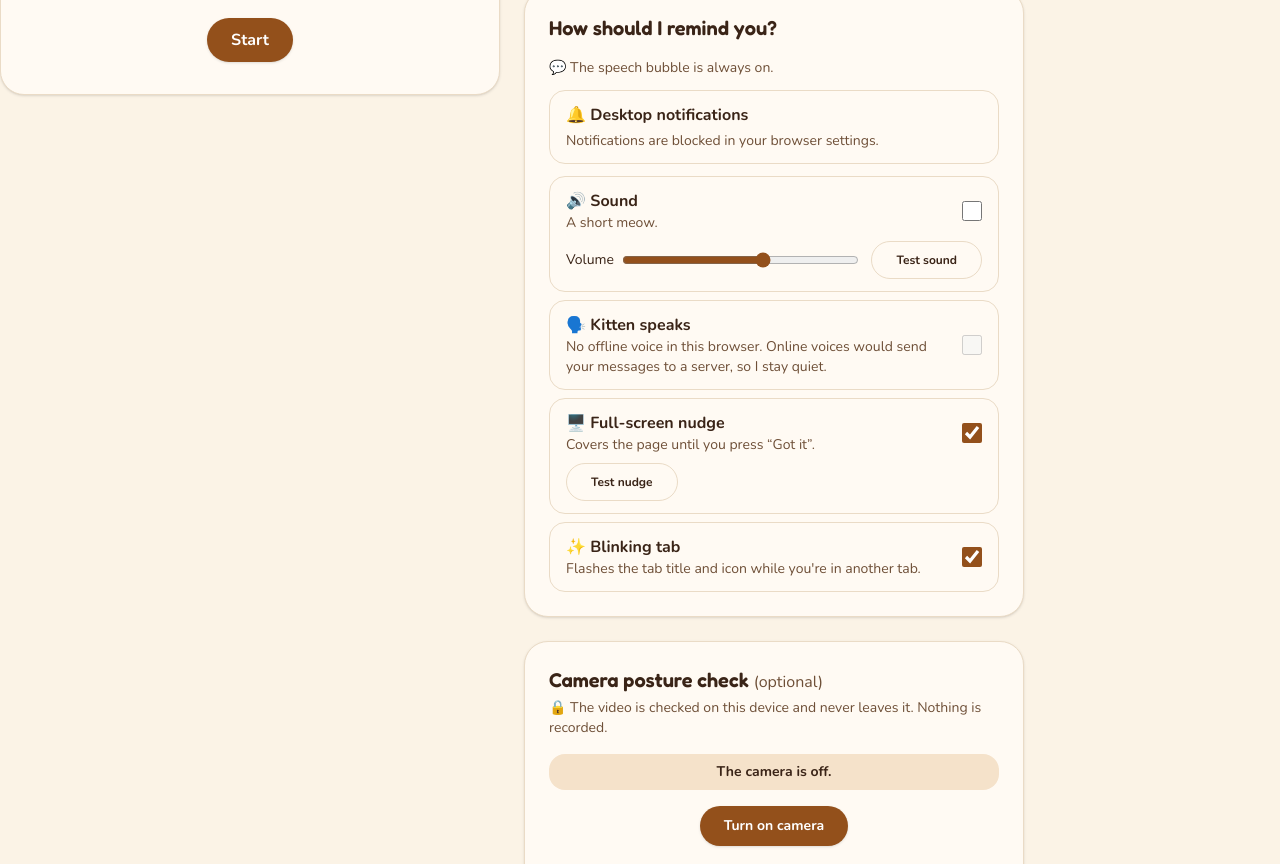
Test: full-screen nudge › opens with the reminder, and closes with Got it or Escape
This screenshot has width=1280, height=864.
Earlier steps of the test are not shown.
Later steps or results of the test are not shown.
(page scrolled)
Click the button "Start".
click(250, 40)  # box [207,18,293,62]
Wait 30000 ms
(page scrolled)
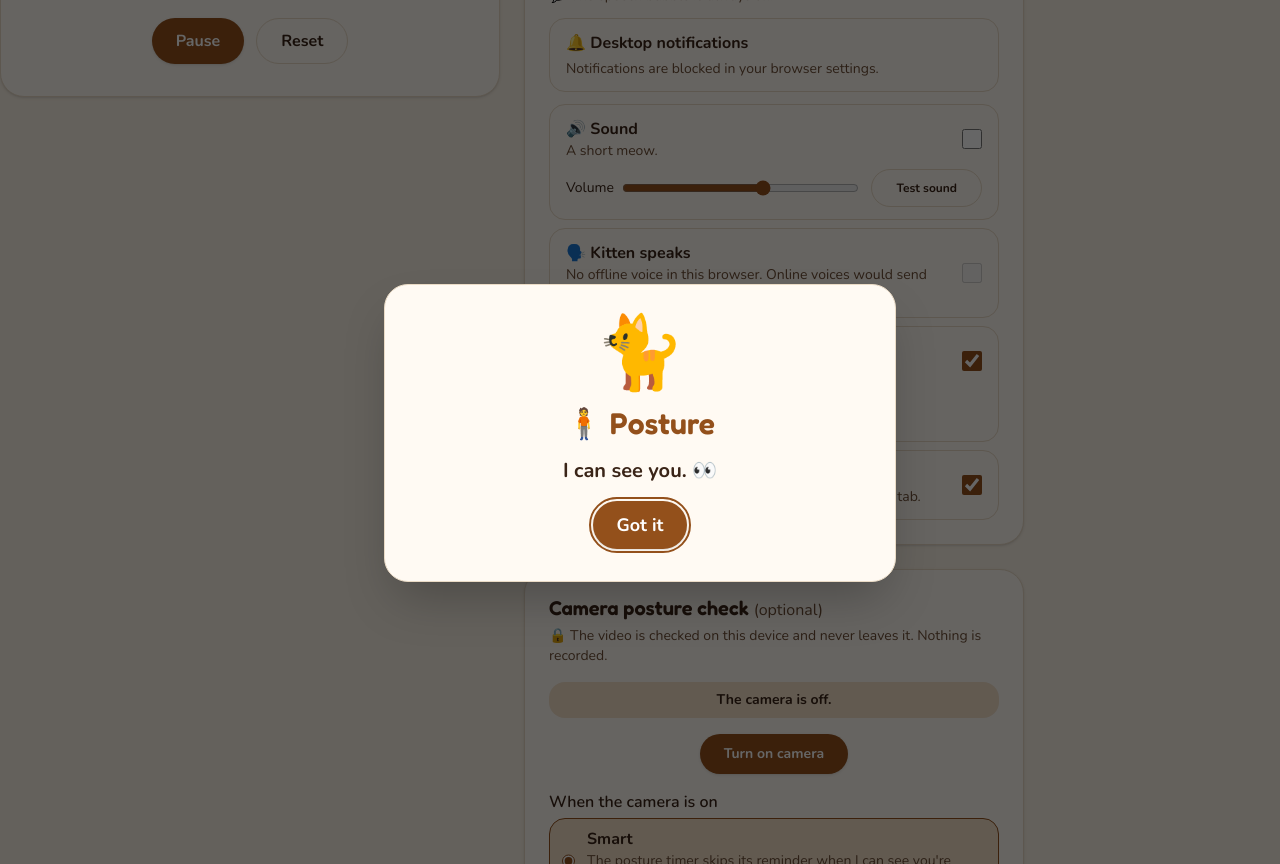
Now the text "I can see you. 👀" is shown, box [563,457,717,485]
Click the button "Got it".
click(640, 525)  # box [593,501,687,549]
(page scrolled)
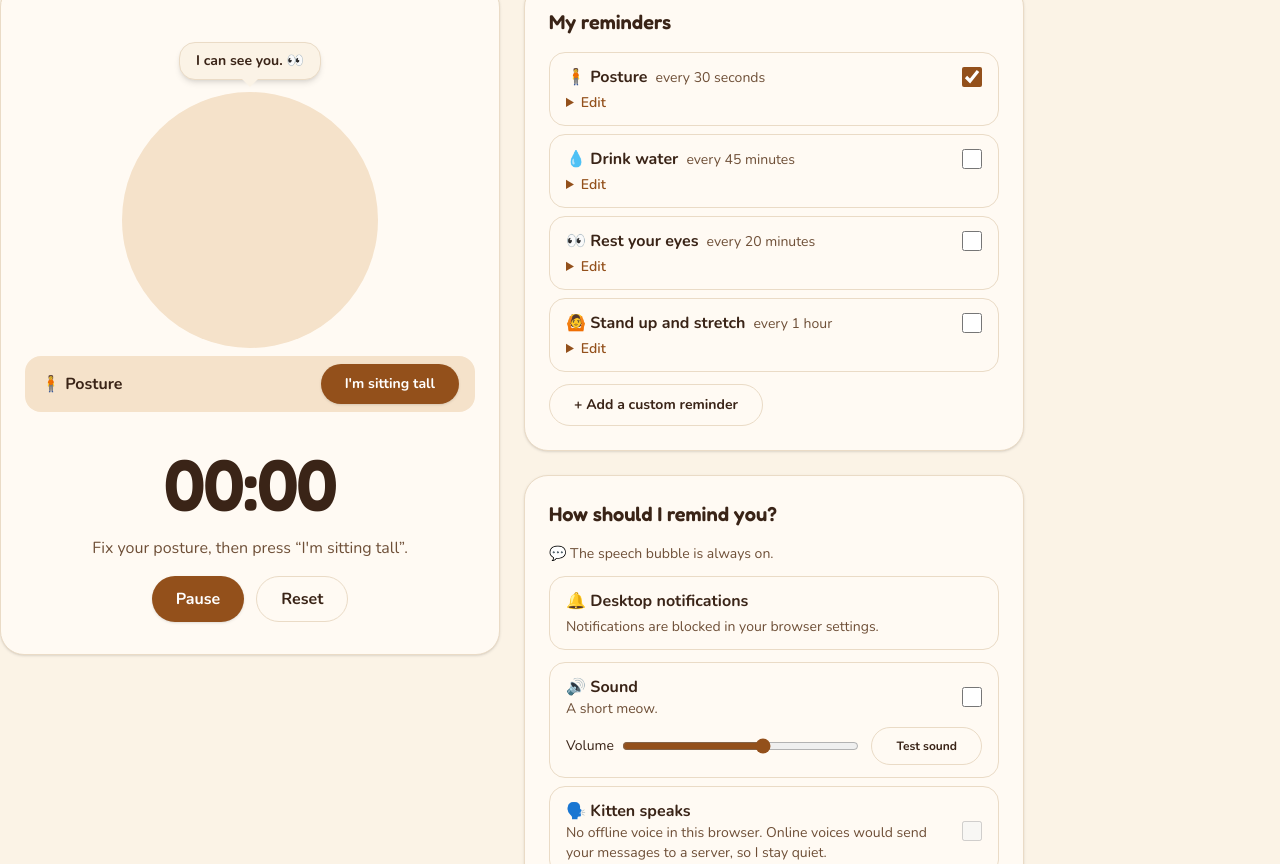
Now the dialog is gone
